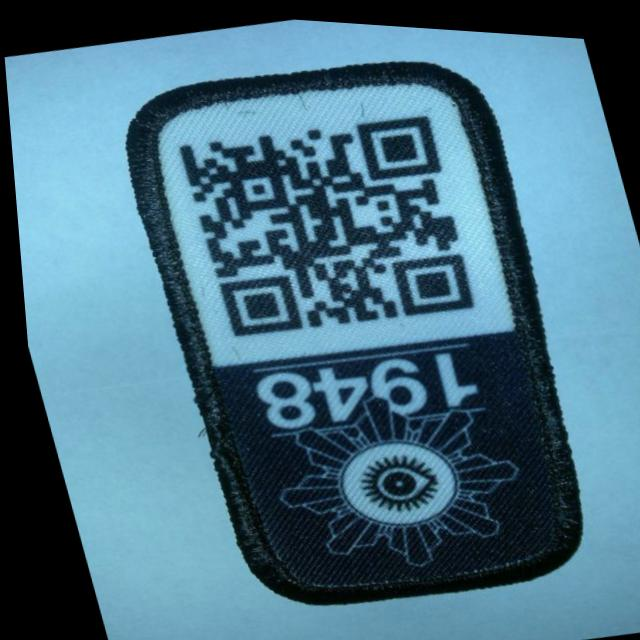qrcode: (176, 96, 477, 349)
